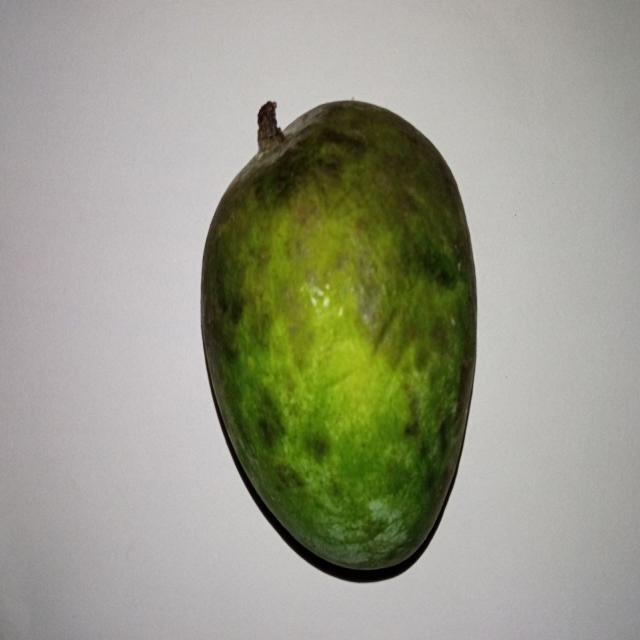rotten_mango: (201, 94, 477, 571)
